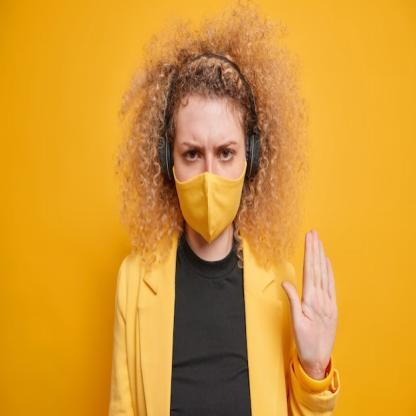stop: (279, 225, 340, 373)
